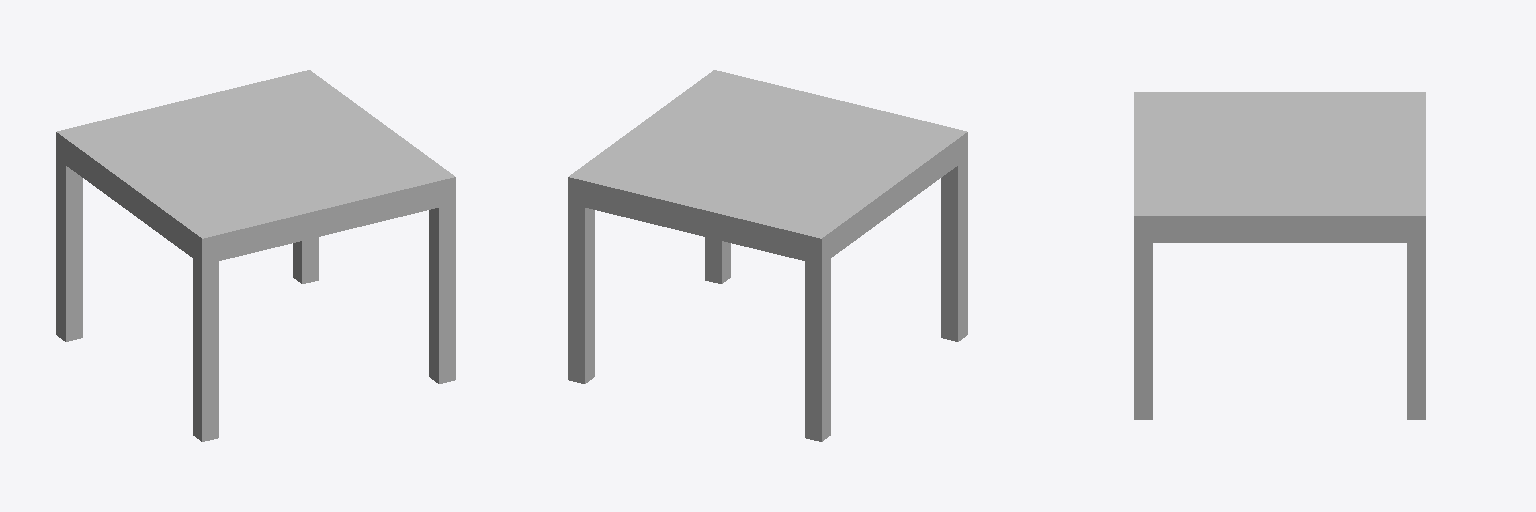
The model's file is Table001.obj.
The picture shows the model from 3 angles: view 1: azimuth 30°, elevation 25°; view 2: azimuth 150°, elevation 25°; view 3: azimuth 270°, elevation 25°; orthographic projection.
Size of the model in its own units: 91.44 by 70.1 by 91.44.